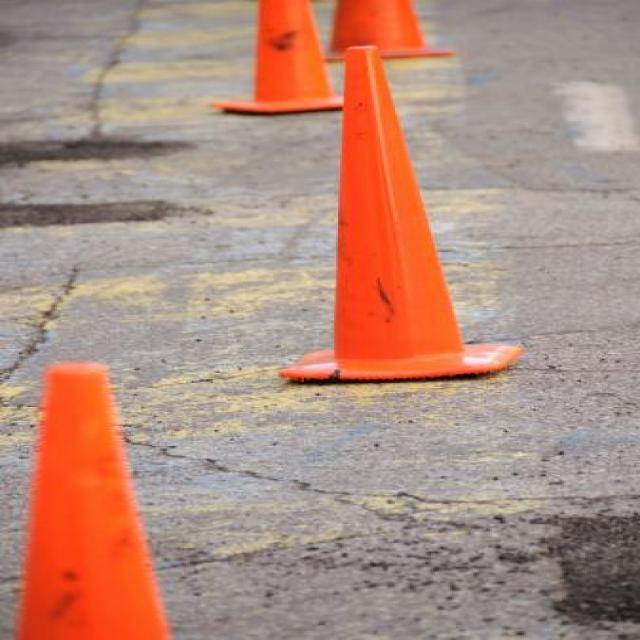Cone: (285, 46, 516, 380), (13, 361, 170, 640), (205, 1, 357, 107)
